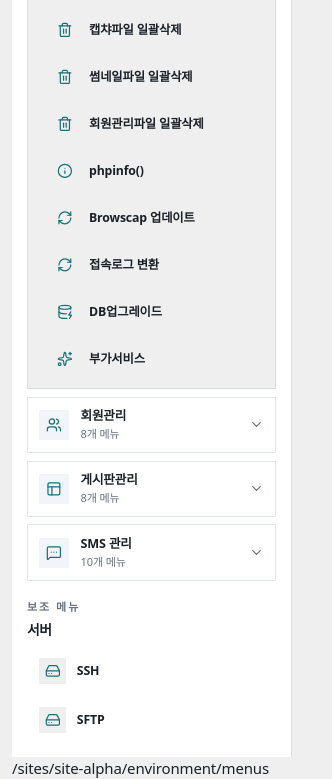
Test case: AppShellSidebar › opens only one admin group at a time
(page scrolled)
Step 1. Click the button "회원관리 8개 메뉴" → (152, 425), box [28, 398, 275, 452]
(page scrolled)
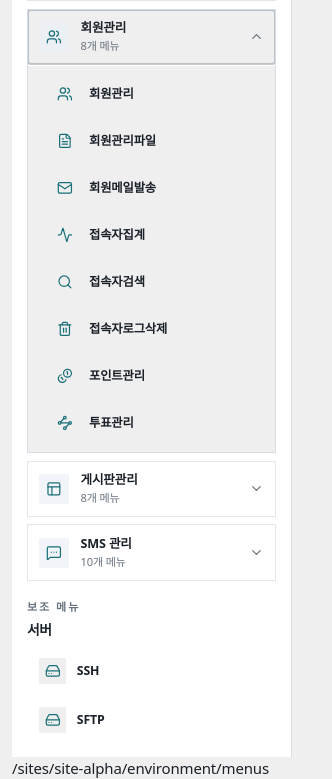
Check: the button "회원관리 8개 메뉴" is expanded, box [28, 10, 275, 64]
Check: the link "회원관리" is shown, box [52, 81, 134, 107]
Check: the link "회원메일발송" is shown, box [52, 175, 156, 201]
